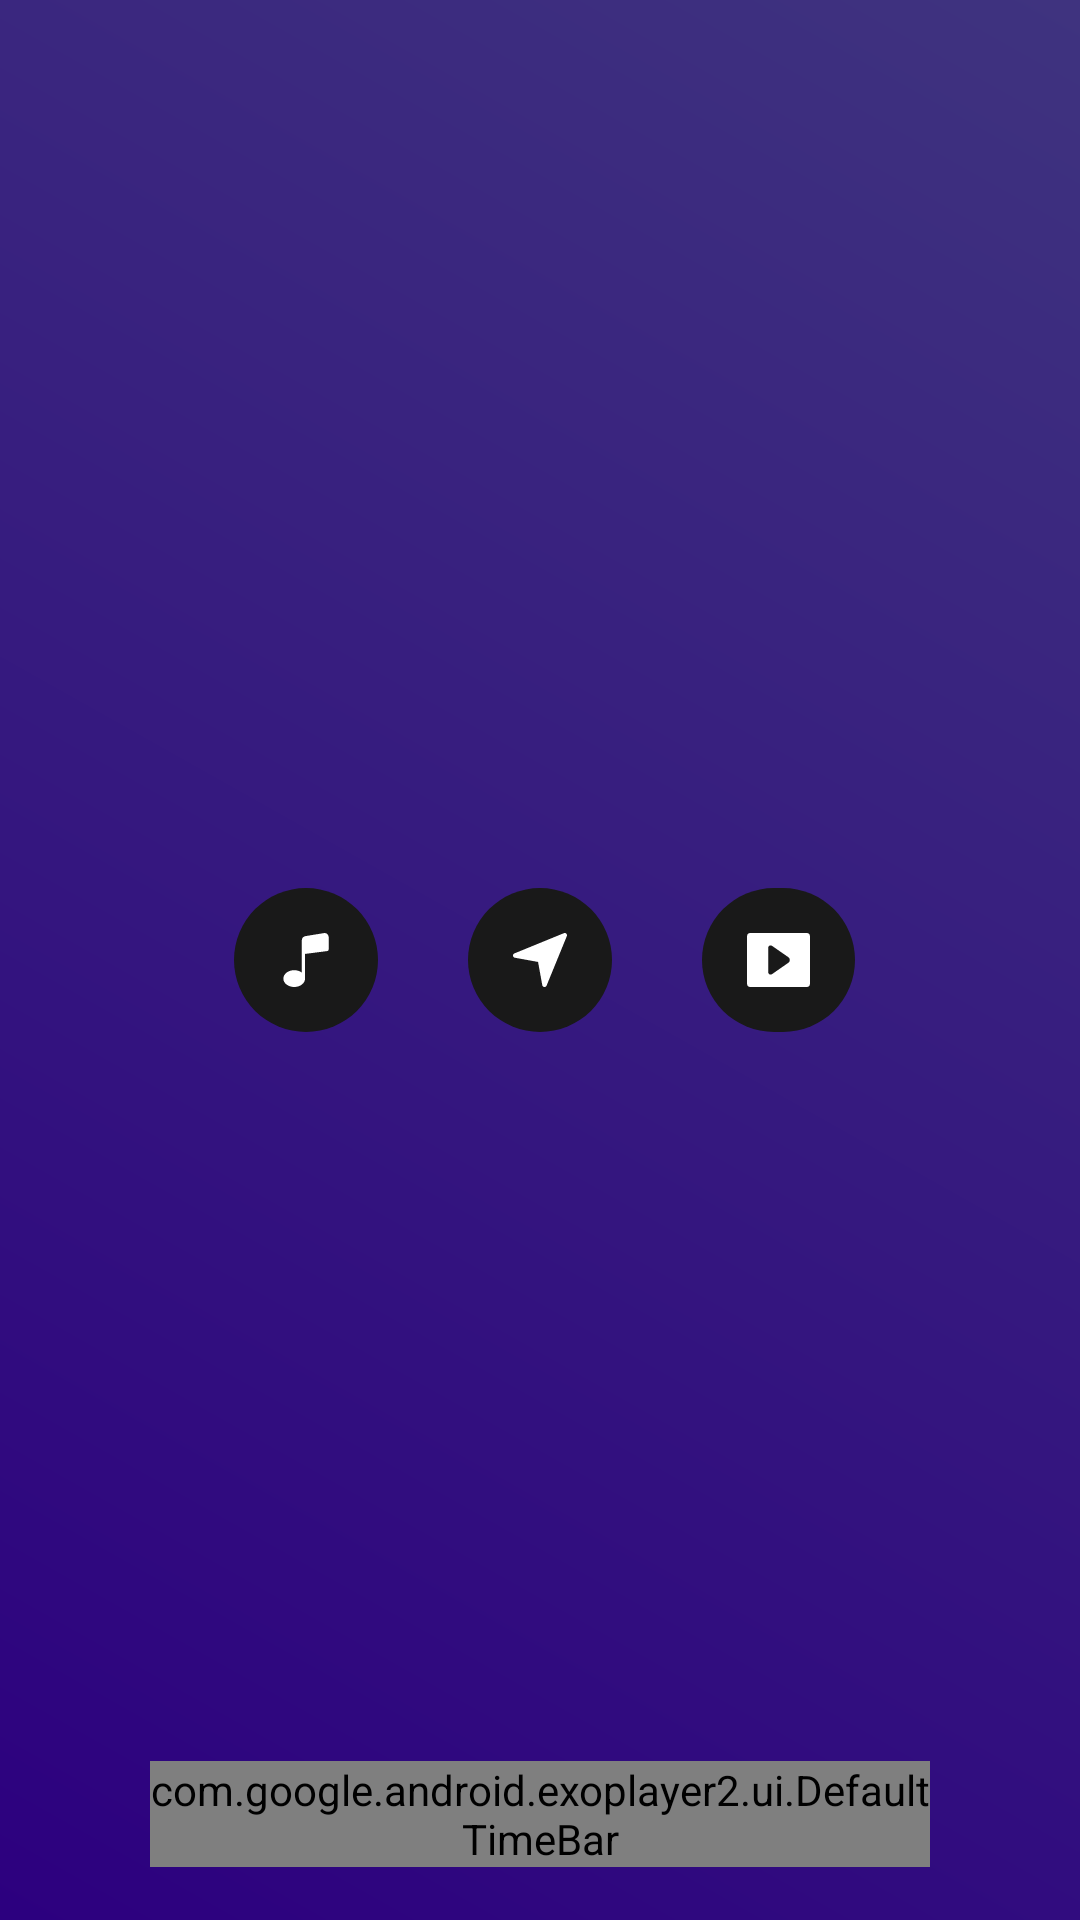

Icons on this 1080px×1920px Android screen, each with its box as (x1, y1, x2, y2):
music: (234, 888, 378, 1032)
vid: (702, 888, 855, 1032)
